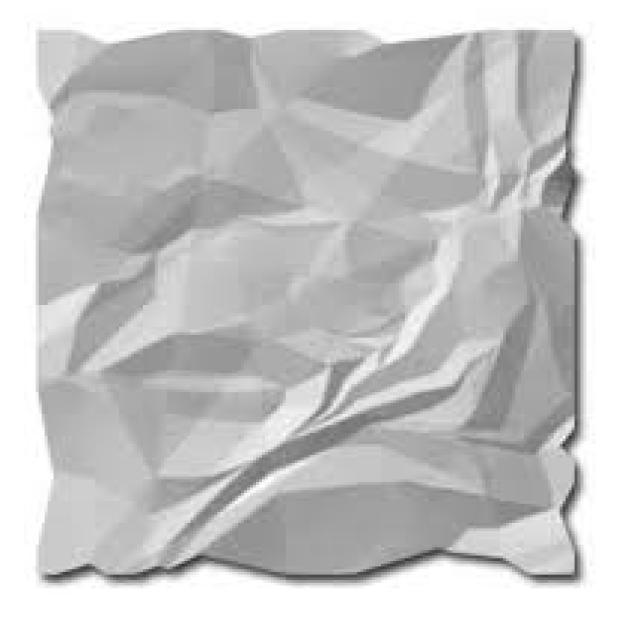paper: (27, 25, 580, 575)
